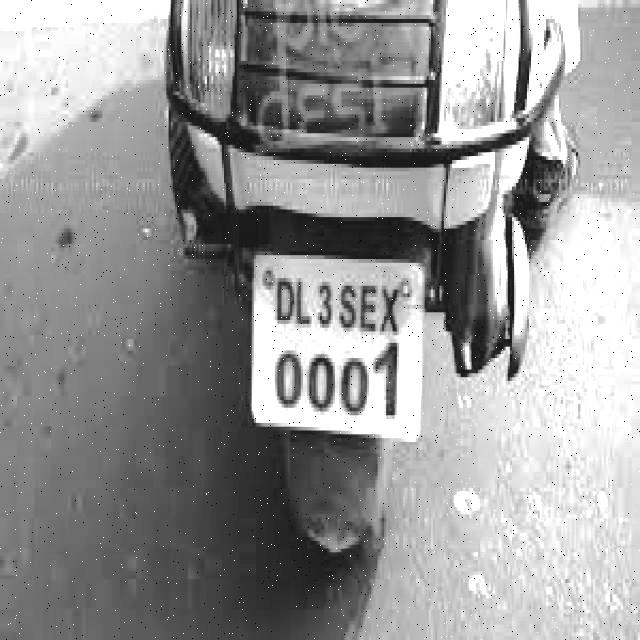Bike: (162, 0, 586, 640)
